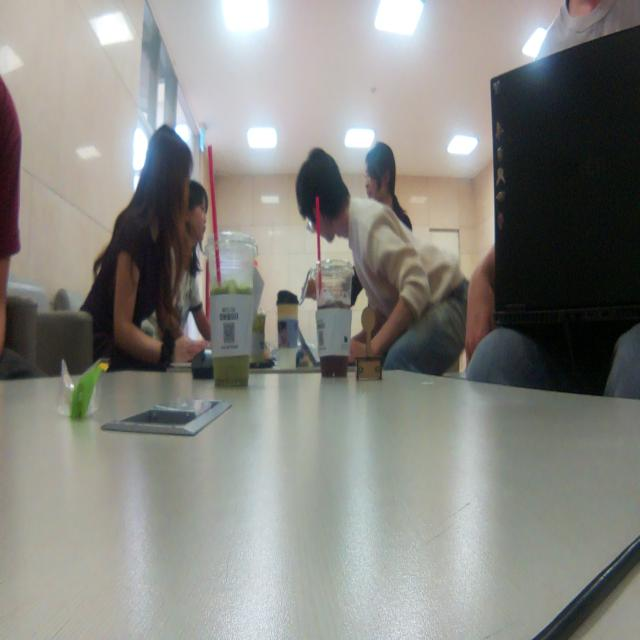target: (355, 306, 383, 382)
